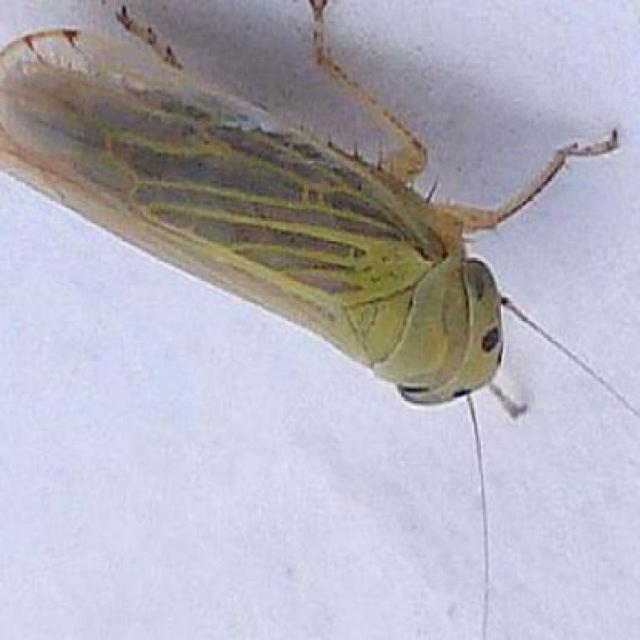green-leafhopper: (0, 0, 621, 401)
